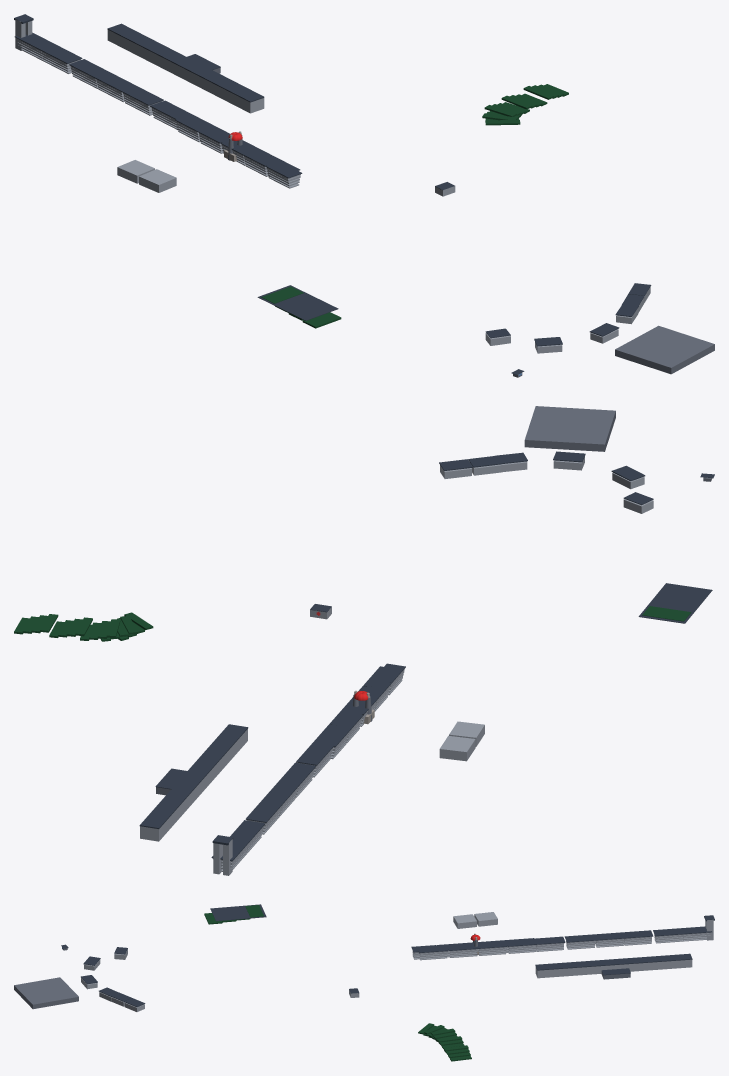
The model's file is campus-env.glb.
The picture shows the model from 3 angles, top to bottom: view 1: azimuth 30°, elevation 25°; view 2: azimuth 150°, elevation 25°; view 3: azimuth 270°, elevation 25°; orthographic projection. The views are drawn at different scales.
Parts seen in each view (by area): view 1: campus-motorsportPark-0, campus-hillstandC2-0, campus-mainGrandstandNorth-8, campus-mainGrandstandNorth-5, campus-mainGrandstandNorth-6, campus-mainGrandstandNorth-7, campus-southPaddock-1, campus-mainGrandstandNorth-4, campus-mainGrandstandNorth-9; view 2: campus-motorsportPark-0, campus-hillstandC2-0, campus-southPaddock-0; view 3: campus-motorsportPark-0, campus-hillstandC2-0, campus-mainGrandstandNorth-8, campus-mainGrandstandNorth-5, campus-mainGrandstandNorth-3, campus-mainGrandstandNorth-0, campus-mainGrandstandNorth-6, campus-mainGrandstandNorth-7, campus-mainGrandstandNorth-2, campus-mainGrandstandNorth-4, campus-mainGrandstandNorth-1, campus-mainGrandstandNorth-9 (+4 smaller).
Boxes of the visible parts, x1,y1,x2,y2 form: campus-motorsportPark-0: [615, 325, 714, 374]; campus-hillstandC2-0: [257, 285, 341, 328]; campus-mainGrandstandNorth-8: [40, 44, 82, 73]; campus-mainGrandstandNorth-5: [122, 86, 163, 115]; campus-mainGrandstandNorth-6: [95, 72, 136, 102]; campus-mainGrandstandNorth-7: [69, 59, 109, 88]; campus-southPaddock-1: [139, 169, 176, 192]; campus-mainGrandstandNorth-4: [150, 100, 190, 130]; campus-mainGrandstandNorth-9: [14, 32, 55, 60]; campus-motorsportPark-0: [524, 406, 615, 451]; campus-hillstandC2-0: [638, 583, 712, 623]; campus-southPaddock-0: [439, 735, 475, 761]; campus-motorsportPark-0: [14, 977, 78, 1009]; campus-hillstandC2-0: [204, 904, 266, 924]; campus-mainGrandstandNorth-8: [653, 928, 684, 943]; campus-mainGrandstandNorth-5: [564, 934, 596, 949]; campus-mainGrandstandNorth-3: [506, 938, 537, 953]; campus-mainGrandstandNorth-0: [417, 945, 448, 960]; campus-mainGrandstandNorth-6: [594, 932, 625, 947]; campus-mainGrandstandNorth-7: [621, 930, 653, 945]; campus-mainGrandstandNorth-2: [478, 940, 507, 955]; campus-mainGrandstandNorth-4: [535, 936, 565, 951]; campus-mainGrandstandNorth-1: [447, 943, 478, 957]; campus-mainGrandstandNorth-9: [681, 926, 711, 941].
Size of the model in its own units: 145 by 9.09 by 281.
